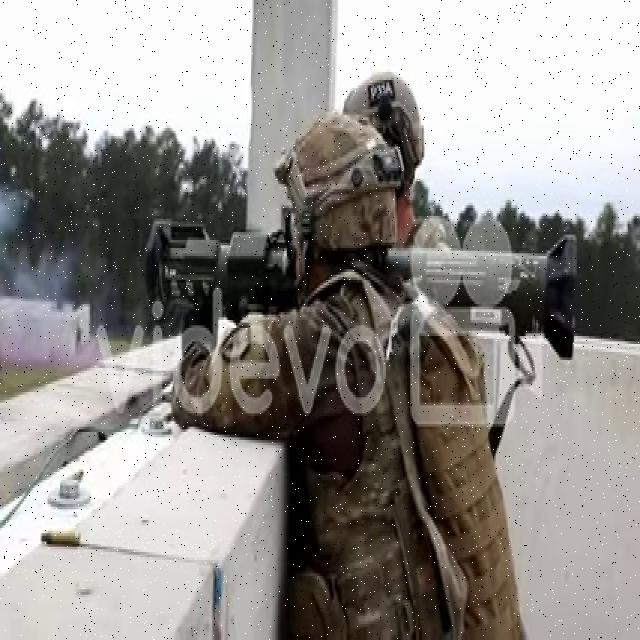bazooka: (140, 201, 582, 378)
